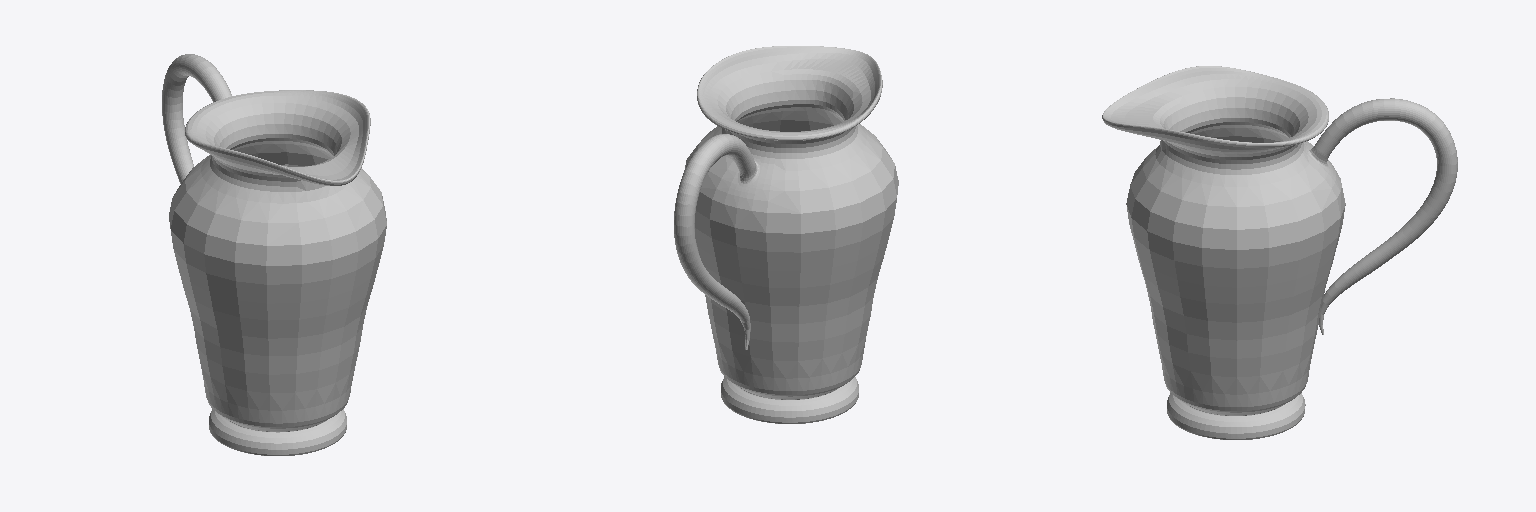
The model's file is pitcher.obj.
3 renders of one model, left to right at view 1: azimuth 30°, elevation 25°; view 2: azimuth 150°, elevation 25°; view 3: azimuth 270°, elevation 25°, orthographic.
Visible parts, largest first — view 1: Pitcher; view 2: Pitcher; view 3: Pitcher.
Boxes of the visible parts, x1,y1,x2,y2 form: Pitcher: [162, 54, 386, 455]; Pitcher: [674, 46, 898, 423]; Pitcher: [1102, 66, 1457, 439].
Bounding box in the file's own units: 12.53 × 19.73 × 20.33.